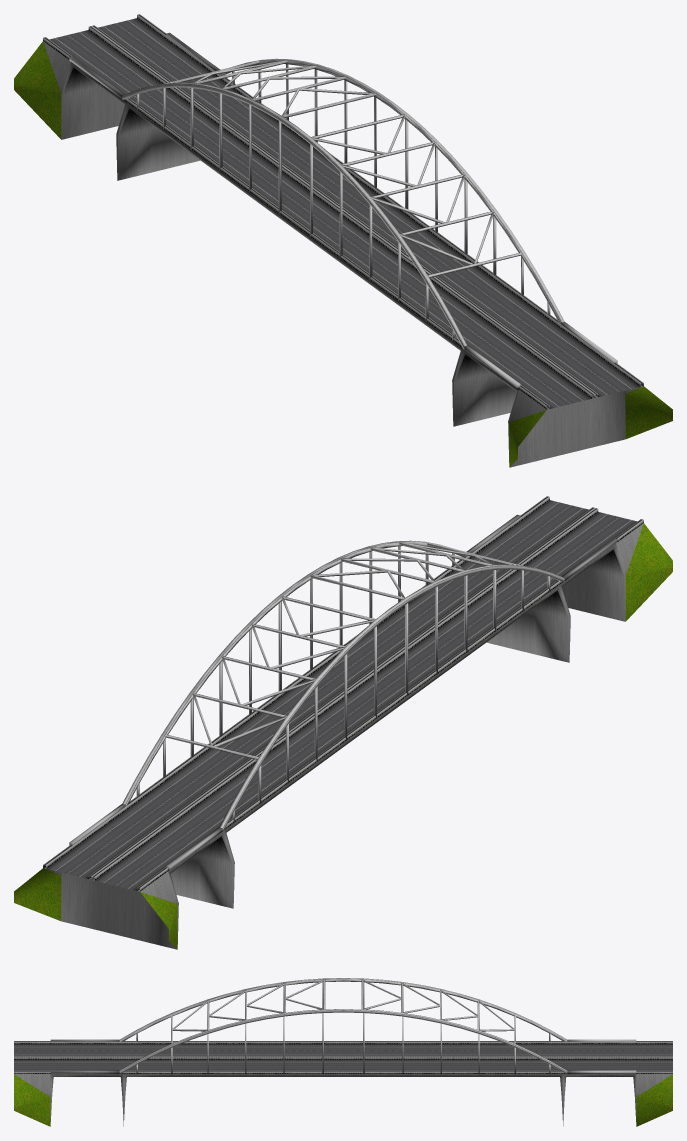
Rendered from brug_snelweg_1d_met_talud.fbx.
The picture shows the model from 3 angles, top to bottom: view 1: azimuth 30°, elevation 25°; view 2: azimuth 150°, elevation 25°; view 3: azimuth 270°, elevation 25°; orthographic projection. The views are drawn at different scales.
Visible parts, largest first — view 1: brug_snelweg_1d_met_talud; view 2: brug_snelweg_1d_met_talud; view 3: brug_snelweg_1d_met_talud.
Part boxes in pixels (<box>): brug_snelweg_1d_met_talud: <box>14,14,672,467</box>; brug_snelweg_1d_met_talud: <box>14,496,672,949</box>; brug_snelweg_1d_met_talud: <box>14,978,672,1126</box>.
Bounding box in the file's own units: 3200 × 3448 × 18006.
